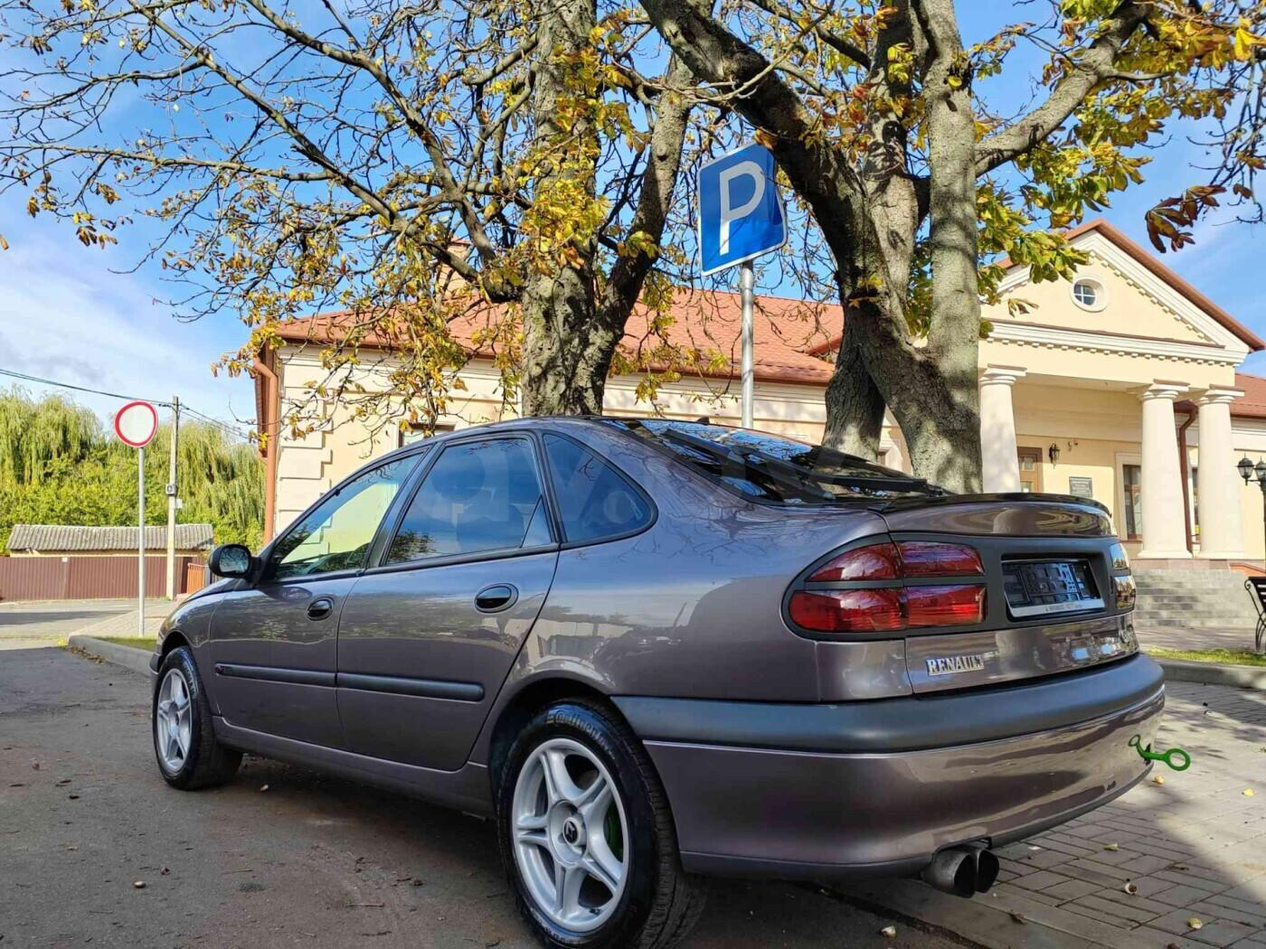Laguna_1998-2001: (143, 409, 1161, 949)
